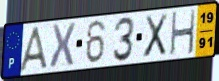3: (112, 15, 136, 63)
6: (85, 19, 107, 66)
A: (17, 25, 51, 73)
H: (169, 9, 197, 58)
X: (48, 21, 77, 71), (142, 12, 170, 60)
